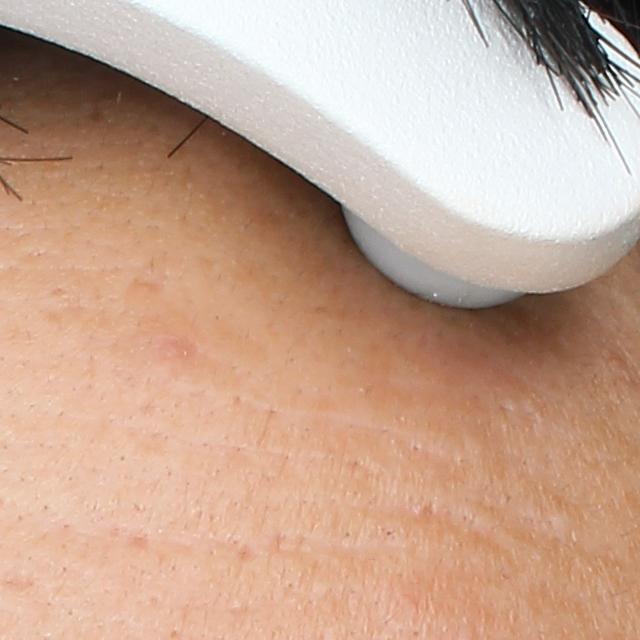atrophic_scar: (126, 525, 155, 554)
comedo: (547, 506, 577, 537)
